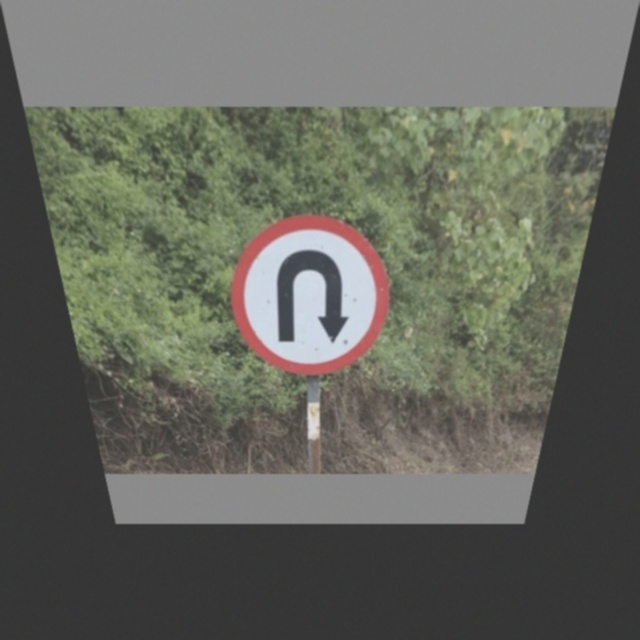U_Turn_Ahead: (225, 218, 399, 370)
